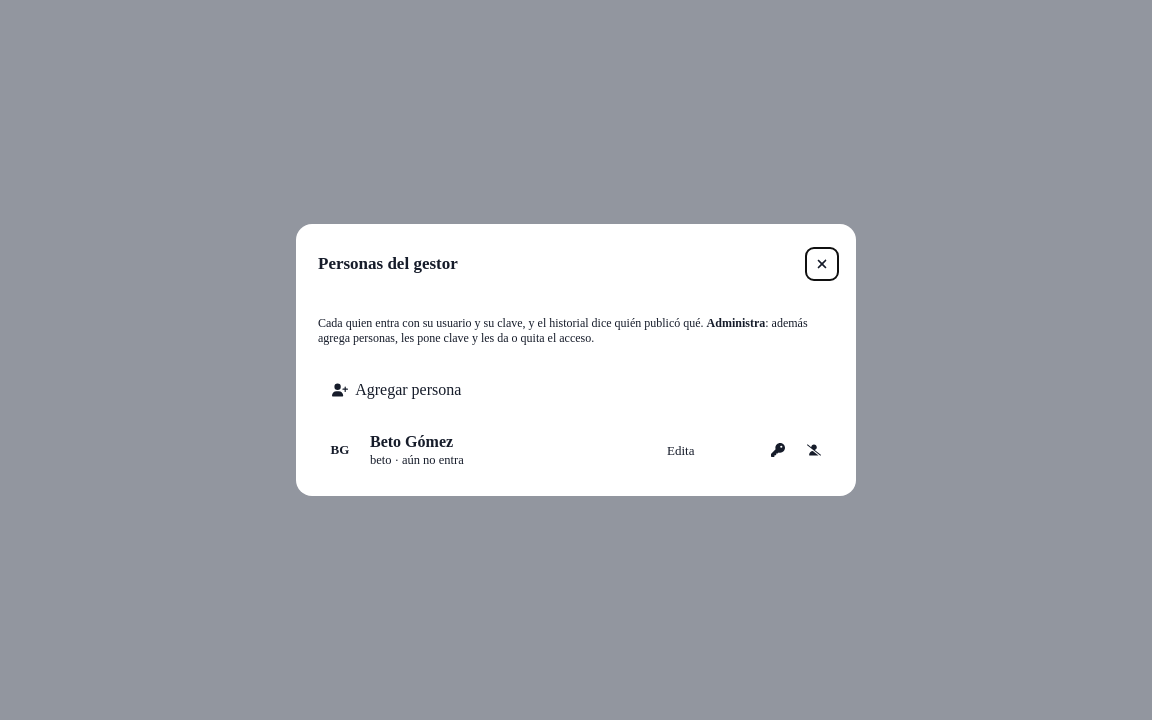
Test: PeopleDialog · ponerle clave a otra persona › quien administra escribe la suya, sin espacios, y puede dejarla fija
The image size is (1152, 720).
Click the button named "Ponerle otra clave a Beto Gómez" at (778, 450), box 762,434 -> 794,466
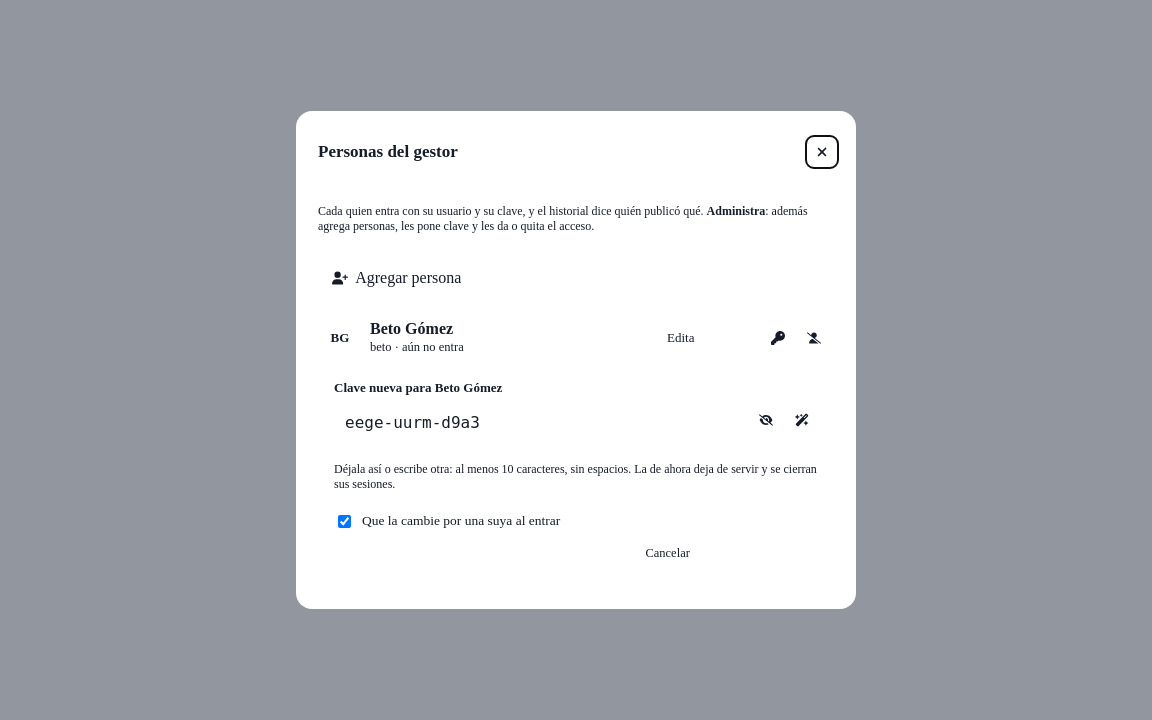
Replace the text in the field with id "key-beto" with "corta" at (540, 423), box 334,404 -> 746,442
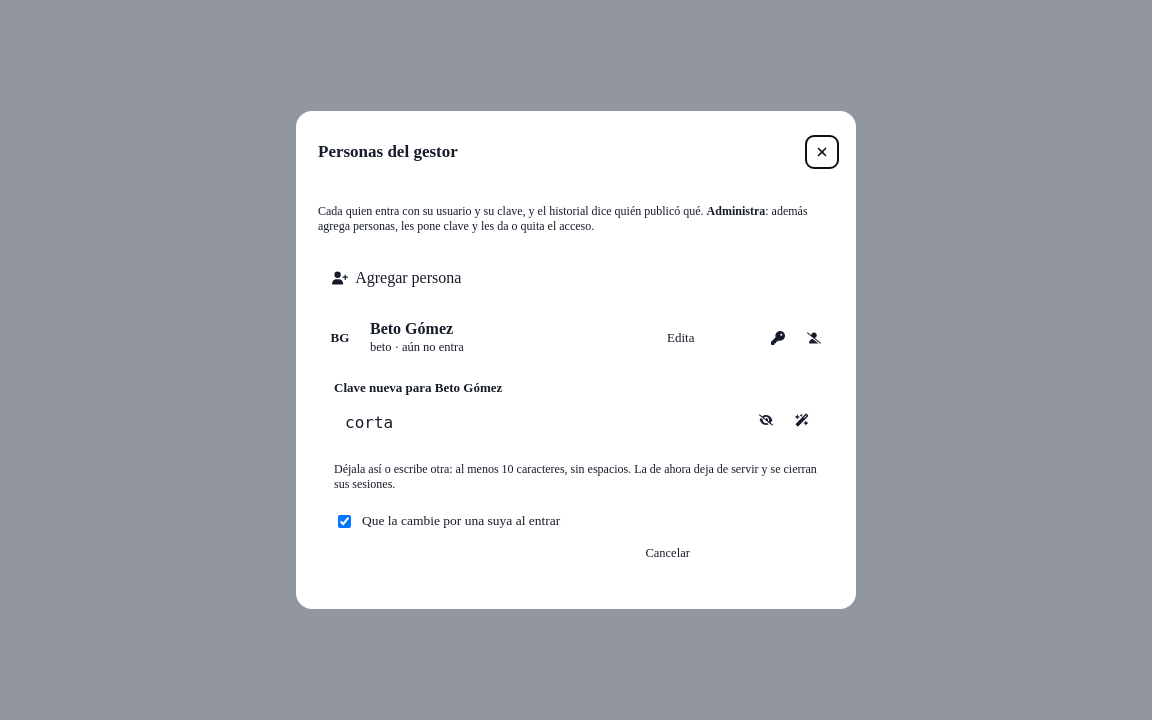
Submit the form, box 322,368 -> 830,581
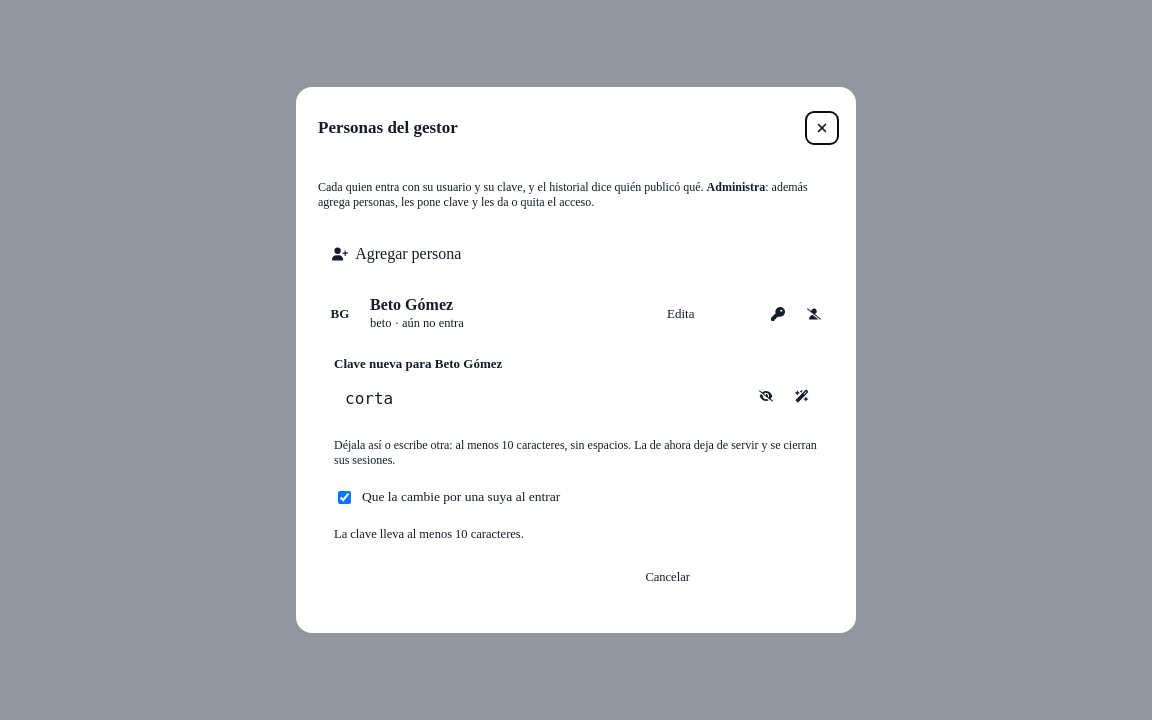
Result: the message with class "g-error" shows "10 caracteres" at 334,527 -> 524,541
Replace the text in the field with id "key-beto" with "la de beto 2026" at (540, 399), box 334,380 -> 746,418
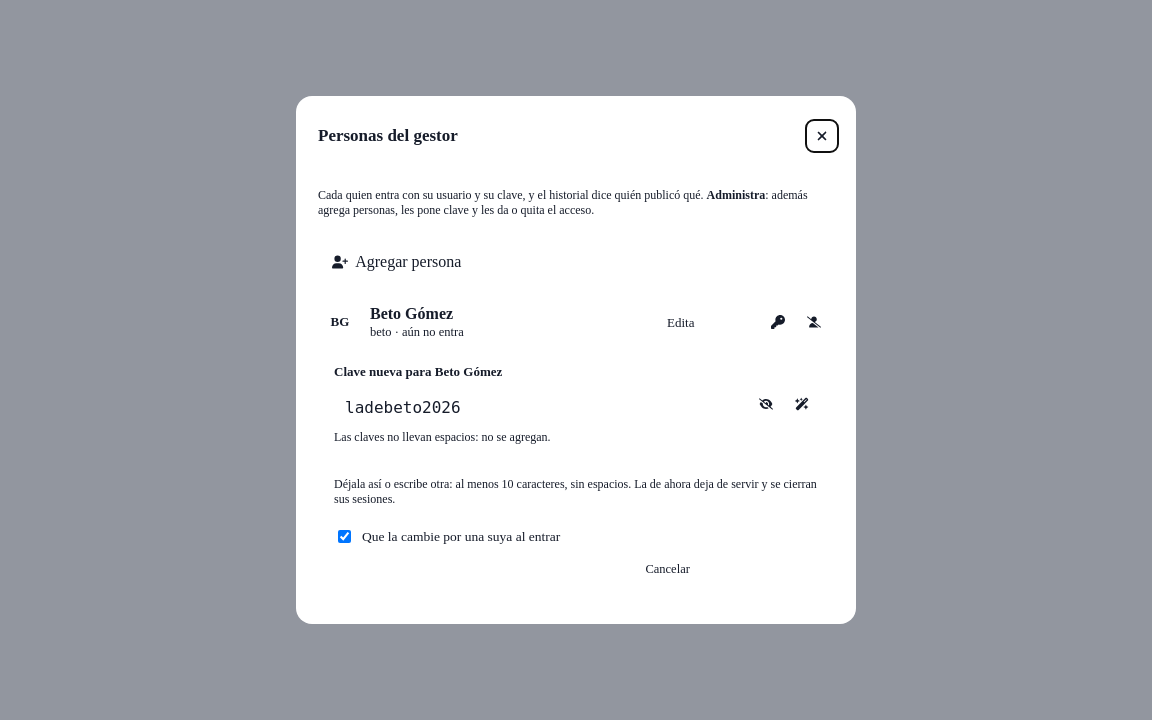
Result: the field with id "key-beto" holds "ladebeto2026" at 334,388 -> 746,426
Click the checkbox labelled "Que la cambie por una suya al entrar" at (344, 537), box 338,530 -> 351,543
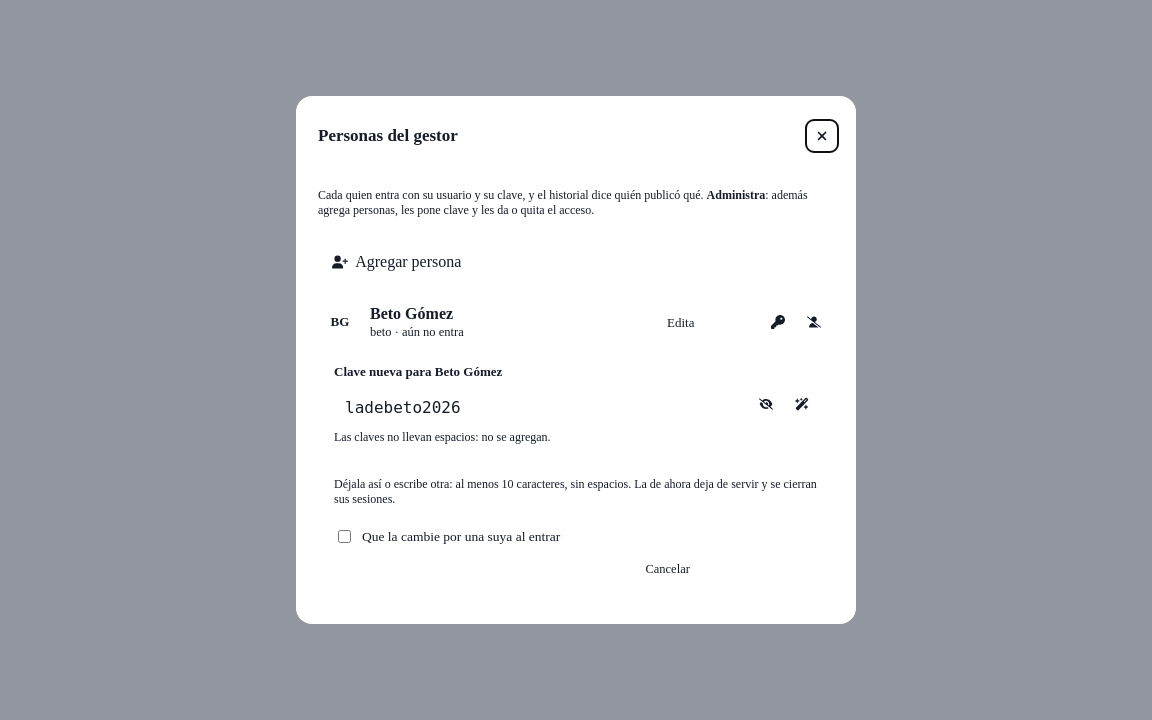
Submit the form, box 322,352 -> 830,596
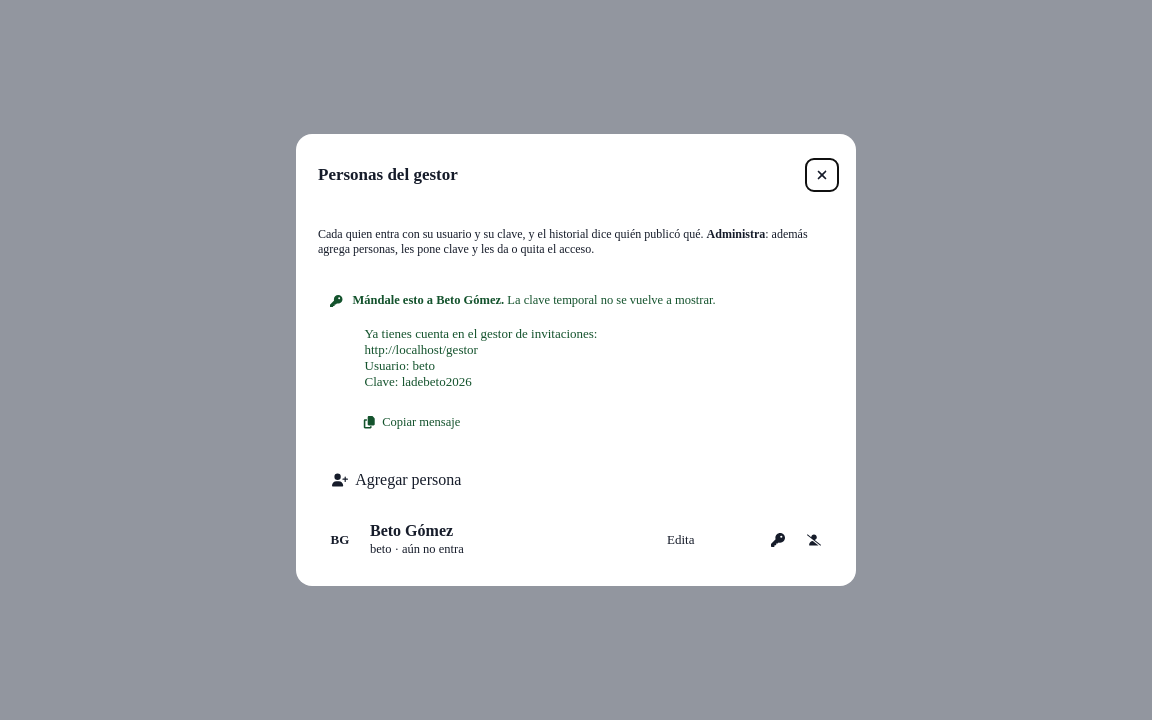
Expected: the text "Clave temporal" is not shown
Result: the text "Clave: ladebeto2026" is shown at 364,326 -> 598,389
